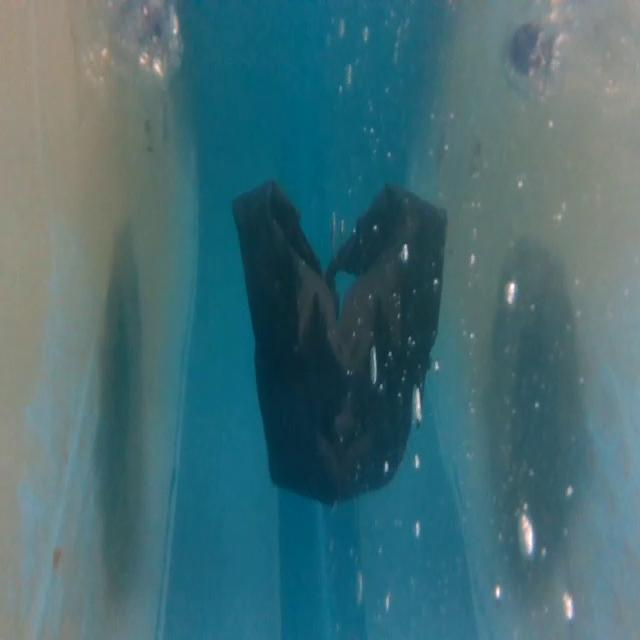plastic bags: (224, 170, 454, 514)
